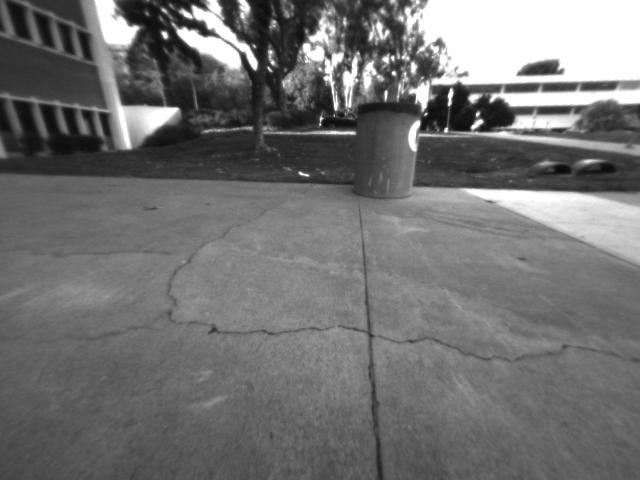trashcan: (348, 93, 428, 211)
